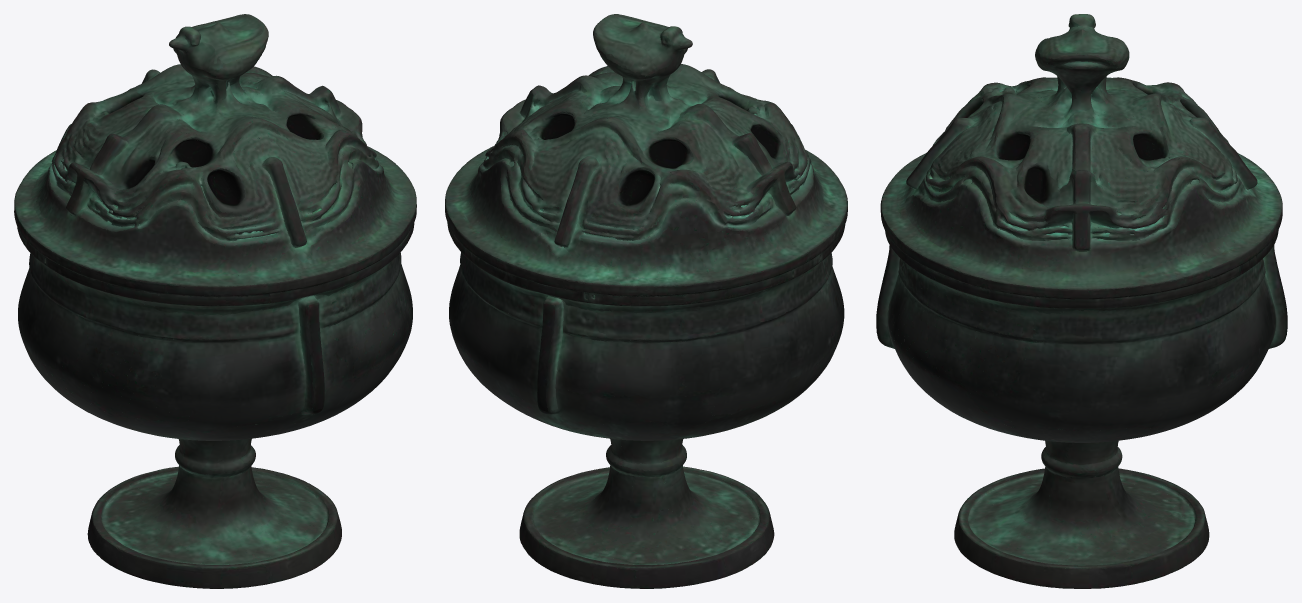
File: tex_mesh.glb
The picture shows the model from 3 angles, left to right: view 1: azimuth 30°, elevation 25°; view 2: azimuth 150°, elevation 25°; view 3: azimuth 270°, elevation 25°; orthographic projection.
Visible parts, largest first — view 1: world; view 2: world; view 3: world.
Boxes of the visible parts, x1,y1,x2,y2 form: world: (14, 14, 416, 588); world: (445, 14, 847, 588); world: (876, 14, 1287, 588).
Bounding box in the file's own units: 0.1858 × 0.26 × 0.1905.
Materials: 1 (1 with a texture image).
